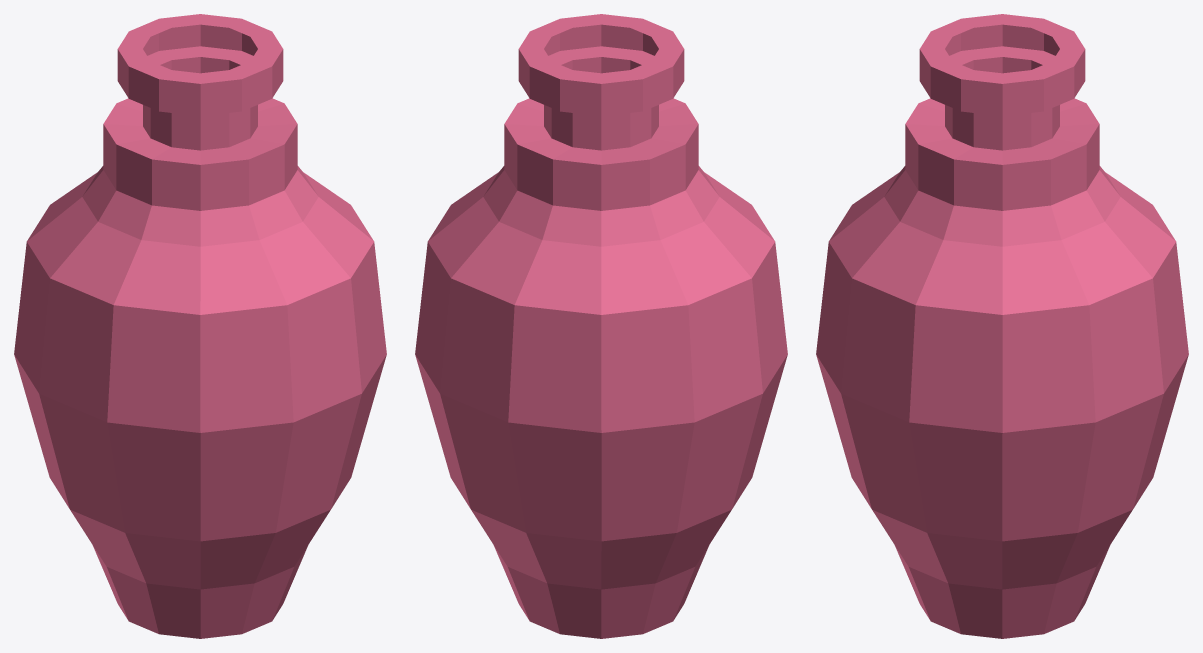
The model's file is BOTELLA_1.fbx.
3 renders of one model, left to right at view 1: azimuth 30°, elevation 25°; view 2: azimuth 150°, elevation 25°; view 3: azimuth 270°, elevation 25°, orthographic.
Parts seen in each view (by area): view 1: BOTELLA 1; view 2: BOTELLA 1; view 3: BOTELLA 1.
Boxes of the visible parts, x1,y1,x2,y2 form: BOTELLA 1: (14,14,386,638); BOTELLA 1: (415,14,787,638); BOTELLA 1: (816,14,1188,638).
Bounding box in the file's own units: 17.51 × 28.76 × 17.51.
